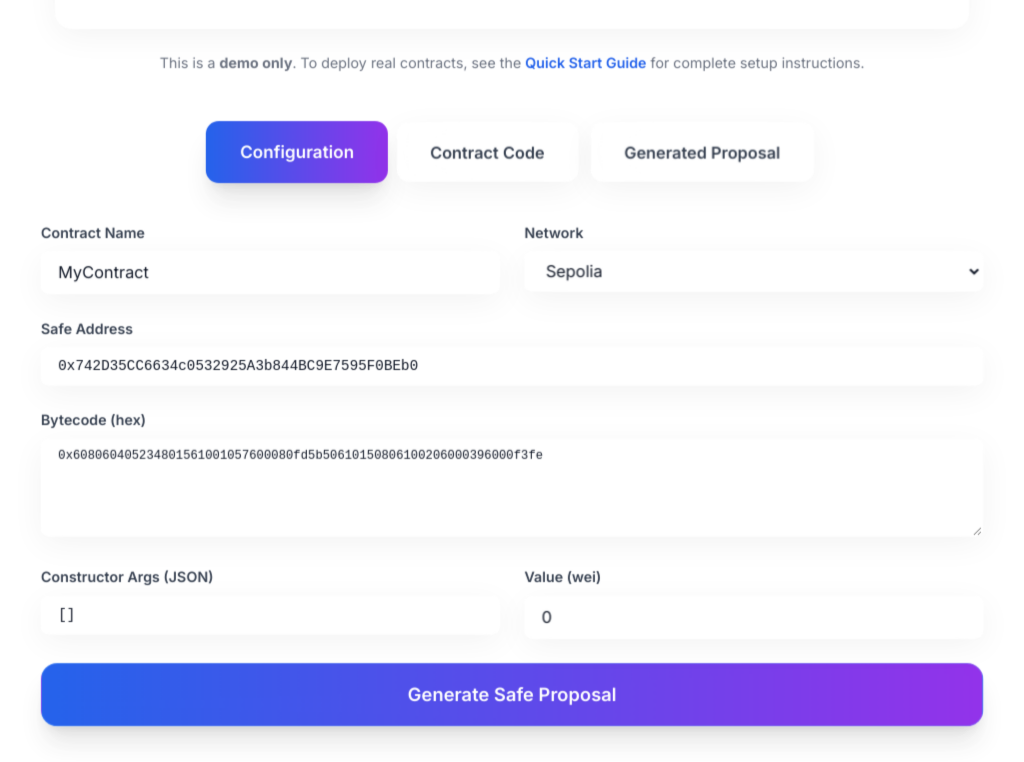
Test: SafeProposalSandbox › should handle non-Error exceptions
The width and height of the screenshot is (1024, 762).
(page scrolled)
Click the button "Generate Safe Proposal".
click(512, 694)  # box x1=41 y1=662 x2=983 y2=726
(page scrolled)
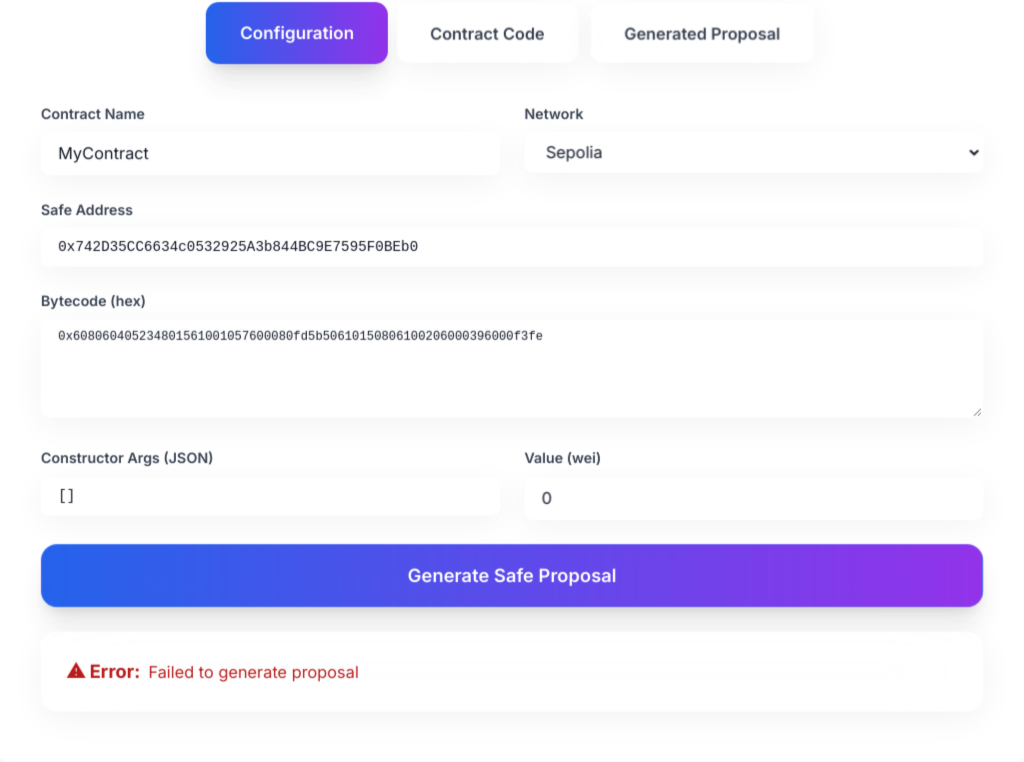
expect the text "Failed to generate proposal" is shown: met, box x1=148 y1=661 x2=359 y2=681
